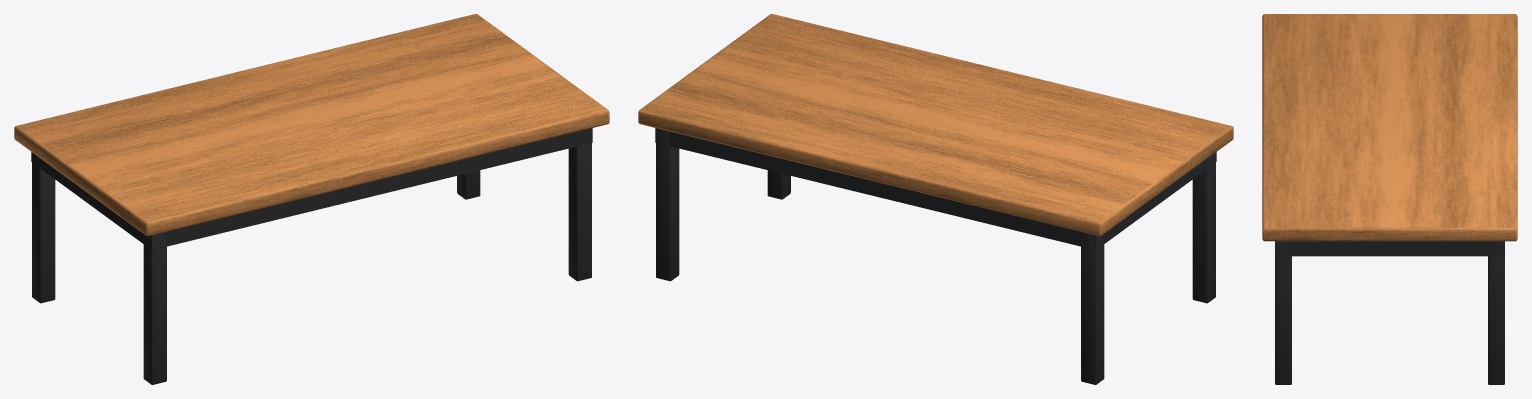
File: lounge.rectangular-coffee-table.glb
3 views of the same model, side by side, from view 1: azimuth 30°, elevation 25°; view 2: azimuth 150°, elevation 25°; view 3: azimuth 270°, elevation 25° (orthographic). The views are drawn at different scales.
Parts seen in each view (by area): view 1: lounge.rectangular-coffee-table.001; view 2: lounge.rectangular-coffee-table.001; view 3: lounge.rectangular-coffee-table.001.
Part boxes in pixels (x1,y1,x2,y2): lounge.rectangular-coffee-table.001: (14,14,609,384); lounge.rectangular-coffee-table.001: (638,14,1233,384); lounge.rectangular-coffee-table.001: (1262,14,1517,384).
Bounding box in the file's own units: 1.2 × 0.42 × 0.6.
2 materials, 1 textured.
